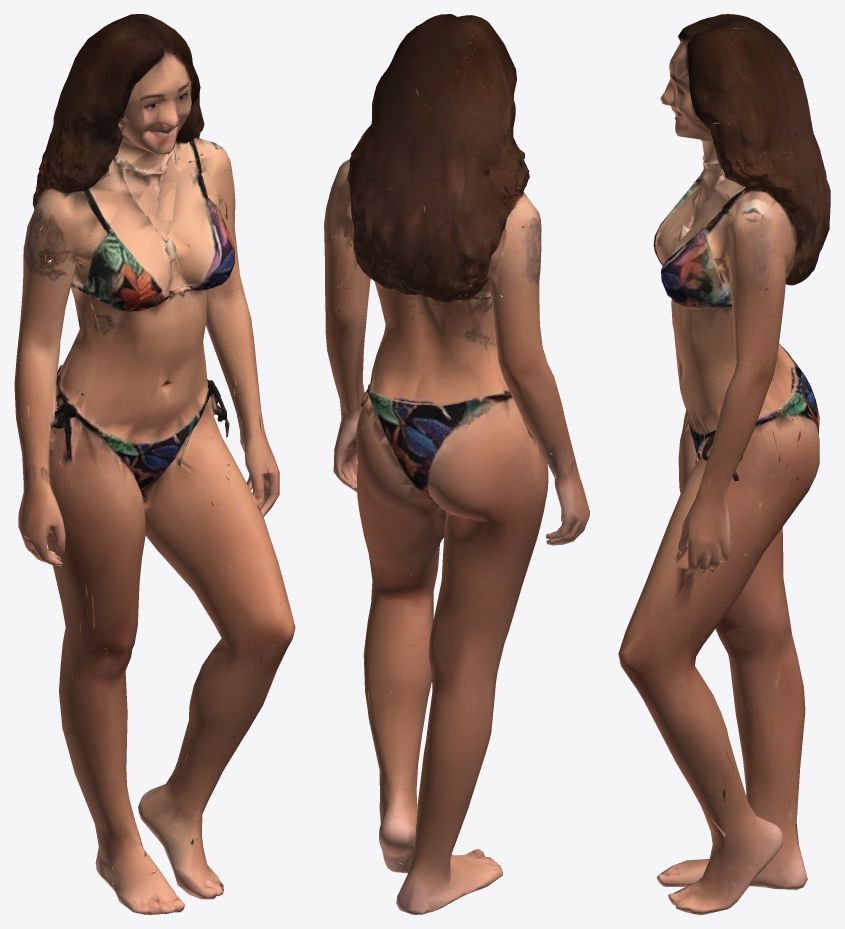
Rendered from gente_tropical_confidence.glb.
3 views of the same model, side by side, from view 1: azimuth 30°, elevation 25°; view 2: azimuth 150°, elevation 25°; view 3: azimuth 270°, elevation 25° (orthographic).
Visible parts, largest first — view 1: norm; view 2: norm; view 3: norm.
Part boxes in pixels (bbox=[...]): norm: bbox=[14, 14, 295, 914]; norm: bbox=[324, 14, 589, 914]; norm: bbox=[618, 14, 830, 914].
Bounding box in the file's own units: 0.5085 × 1.68 × 0.3744.
1 material, 1 textured.
